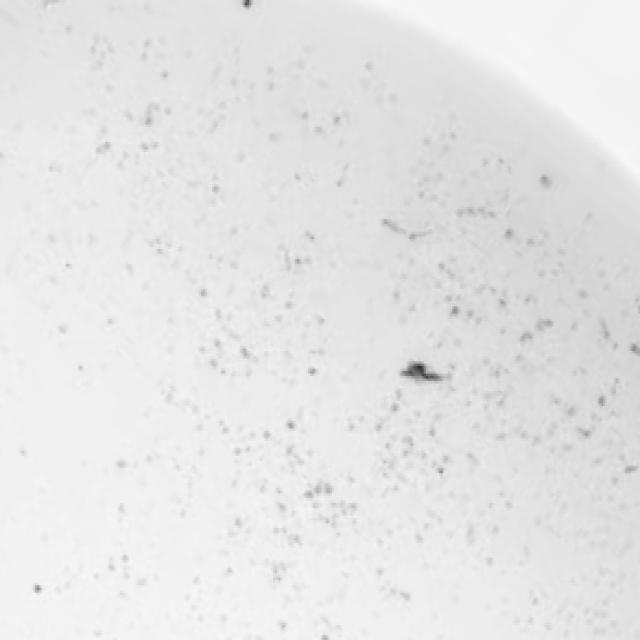larvas: (398, 364, 443, 384), (382, 216, 403, 238), (408, 231, 435, 242)
